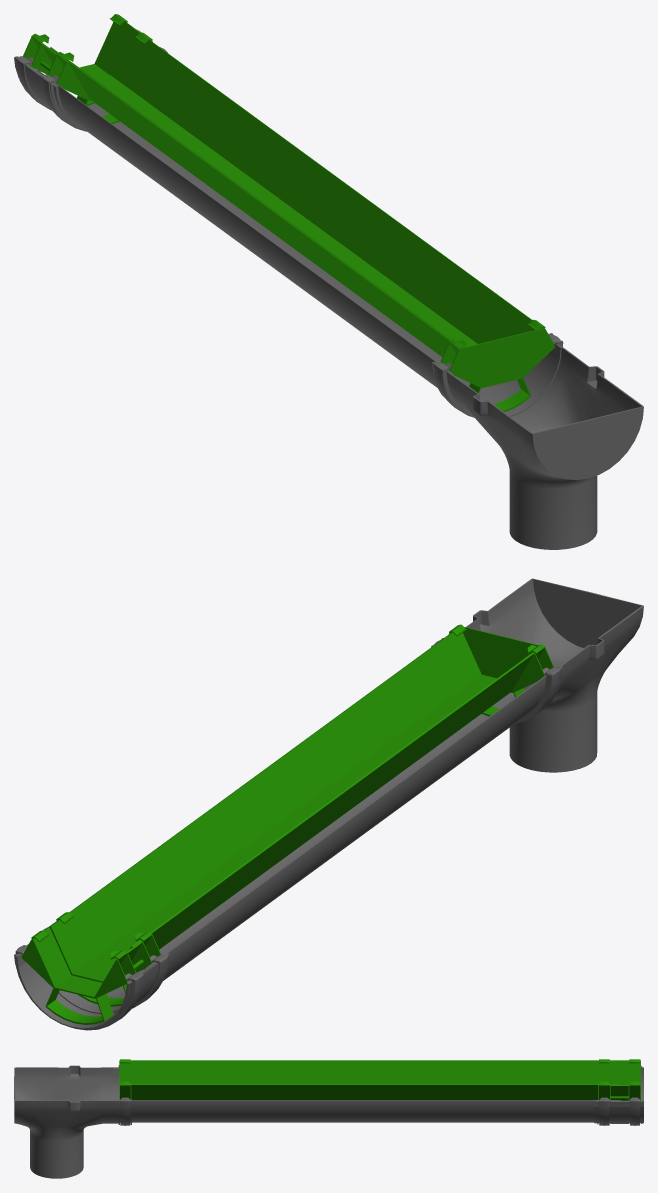
File: guttering.glb
3 renders of one model, top to bottom at view 1: azimuth 30°, elevation 25°; view 2: azimuth 150°, elevation 25°; view 3: azimuth 270°, elevation 25°, orthographic. The views are drawn at different scales.
Visible parts, largest first — view 1: Inner guttering_6, Gutter end drain_3, Gutteromg_2, InngerGEndpiece_7, InngerGConnector_8, Gutter clip2.001_9, InnerG clip_5; view 2: Inner guttering_6, Gutter end drain_3, Gutteromg_2, InngerGConnector_8, Gutter clip2.001_9, InngerGEndpiece_7; view 3: Inner guttering_6, Gutteromg_2, Gutter end drain_3, Gutter clip2.001_9, InngerGConnector_8, Gutter clip_4, InnerG clip_5.
Boxes of the visible parts, left/top/right/bottom form: Inner guttering_6: left=50, top=27, right=541, bottom=356; Gutter end drain_3: left=431, top=333, right=643, bottom=549; Gutteromg_2: left=37, top=69, right=561, bottom=416; InngerGEndpiece_7: left=440, top=328, right=555, bottom=388; InngerGConnector_8: left=23, top=14, right=152, bottom=123; Gutter clip2.001_9: left=14, top=29, right=167, bottom=131; InnerG clip_5: left=449, top=319, right=545, bottom=411; Inner guttering_6: left=49, top=632, right=534, bottom=982; Gutter end drain_3: left=431, top=578, right=643, bottom=772; Gutteromg_2: left=58, top=664, right=561, bottom=1013; InngerGConnector_8: left=21, top=912, right=160, bottom=1024; Gutter clip2.001_9: left=14, top=927, right=170, bottom=1030; InngerGEndpiece_7: left=448, top=627, right=553, bottom=692; Inner guttering_6: left=121, top=1060, right=620, bottom=1099; Gutteromg_2: left=113, top=1068, right=620, bottom=1122; Gutter end drain_3: left=14, top=1065, right=131, bottom=1178; Gutter clip2.001_9: left=594, top=1066, right=643, bottom=1125; InngerGConnector_8: left=598, top=1059, right=640, bottom=1100; Gutter clip_4: left=120, top=1097, right=130, bottom=1125; InnerG clip_5: left=120, top=1059, right=130, bottom=1099.
Size of the model in its own units: 2.29 by 2.76 by 16.39.
